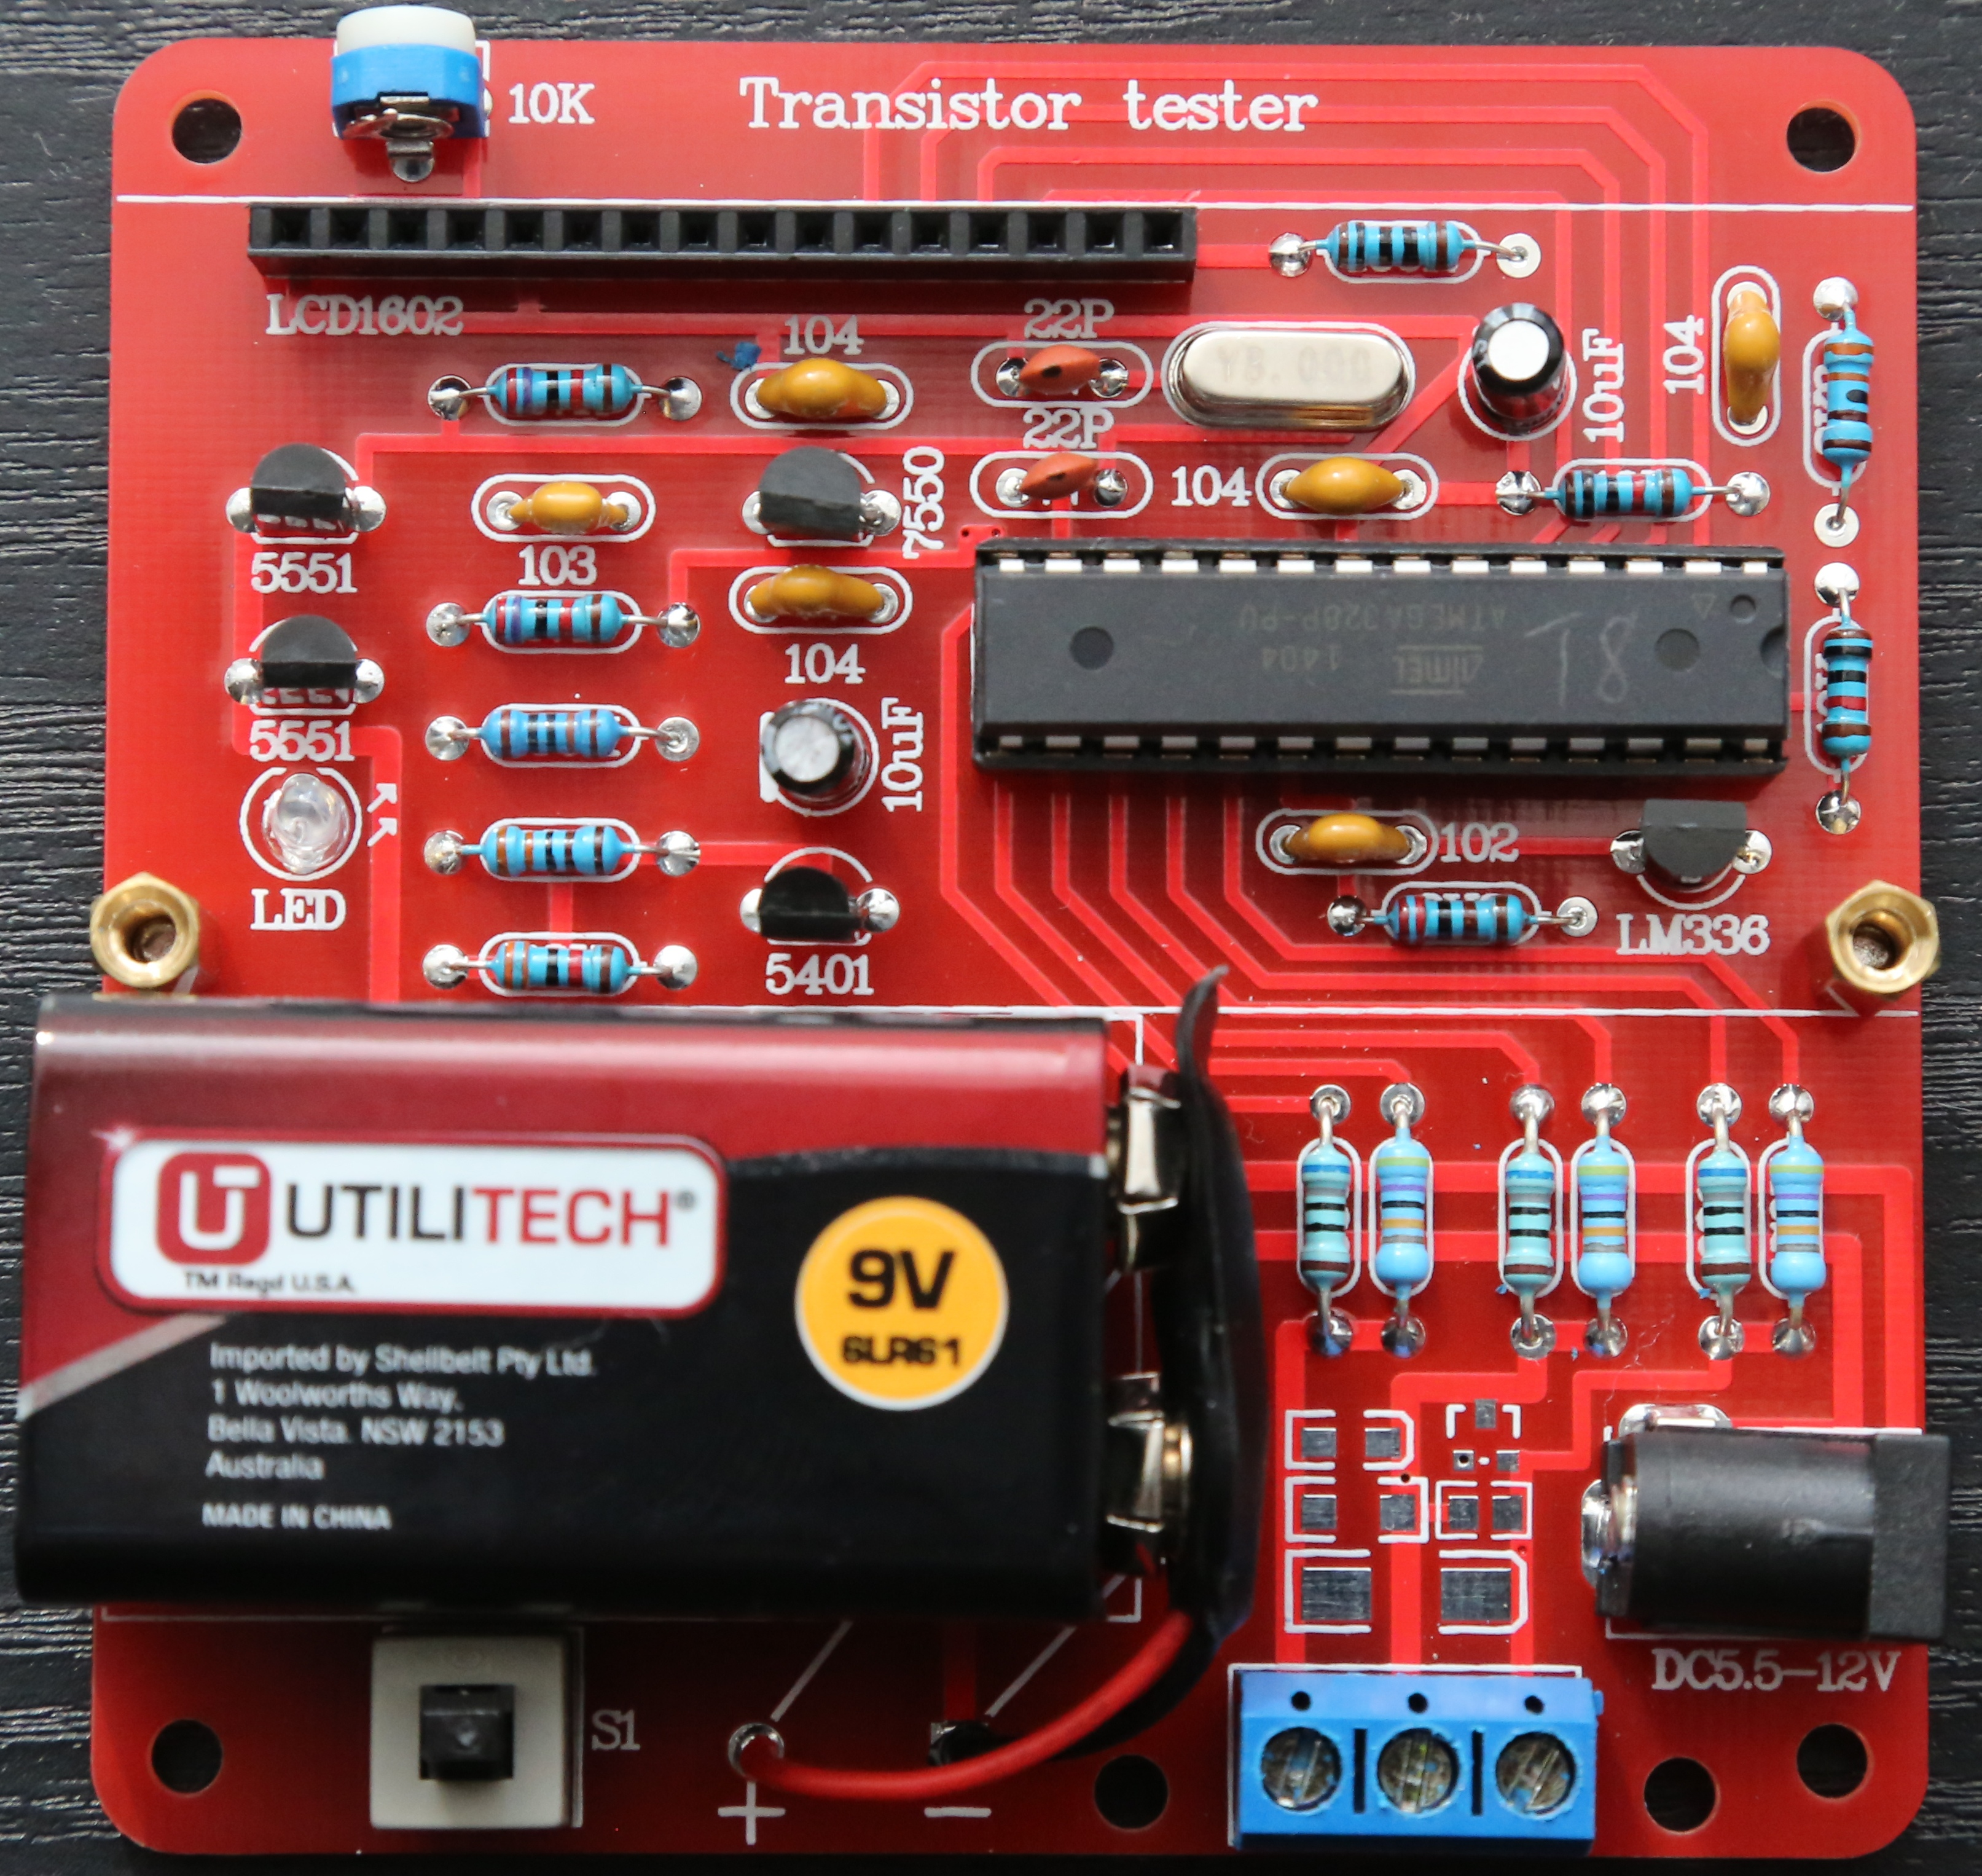Capacitor: (1469, 296, 1576, 436)
LED: (249, 770, 353, 882)
Resistor: (1760, 1127, 1836, 1314), (464, 811, 640, 883), (1809, 321, 1881, 492), (1539, 455, 1712, 525), (467, 927, 638, 998), (1368, 1132, 1442, 1292), (1571, 1134, 1640, 1305), (464, 703, 649, 767), (1691, 1139, 1756, 1312), (478, 361, 645, 428), (1495, 1137, 1561, 1308), (474, 584, 638, 651), (1317, 215, 1474, 282), (1816, 608, 1881, 767), (1293, 1130, 1354, 1292), (1374, 887, 1539, 947)
